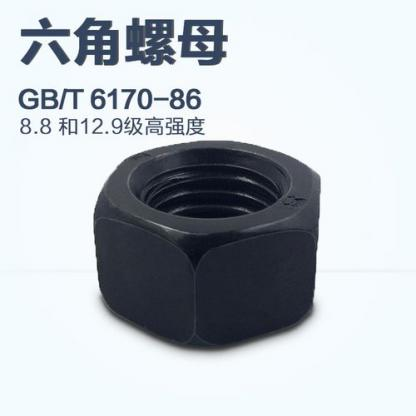FOD: (89, 138, 332, 347)
